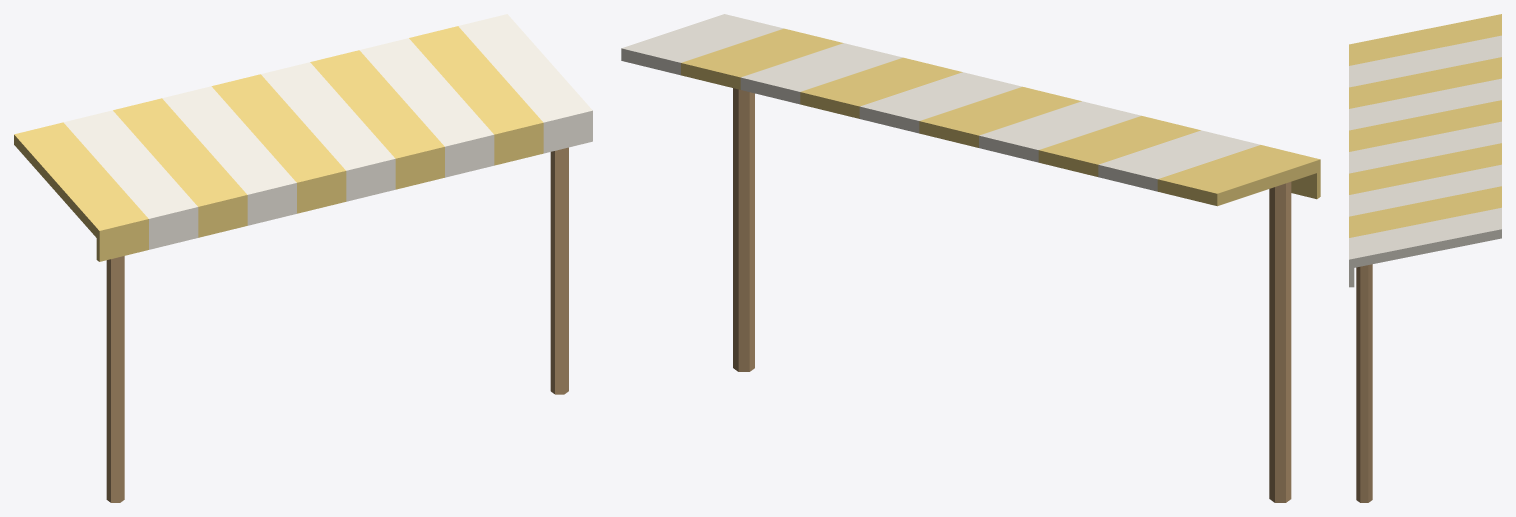
The model's file is awning_w5_0_lilac.glb.
The picture shows the model from 3 angles, left to right: view 1: azimuth 30°, elevation 25°; view 2: azimuth 150°, elevation 25°; view 3: azimuth 270°, elevation 25°; orthographic projection. The views are drawn at different scales.
Parts seen in each view (by area): view 1: Player; view 2: Player; view 3: Player.
Boxes of the visible parts, left/top/right/bottom form: Player: left=14, top=14, right=592, bottom=502; Player: left=621, top=14, right=1320, bottom=502; Player: left=1349, top=14, right=1501, bottom=502.
Bounding box in the file's own units: 5 × 3.05 × 1.5.
